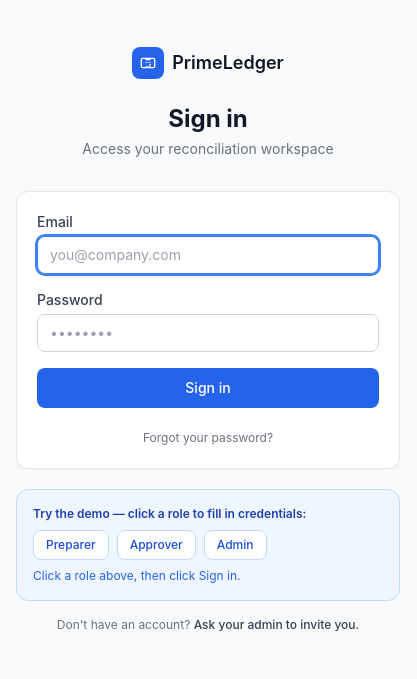
LoginPage › shows error on wrong credentials
Expected: the heading "Sign in" is shown, [168,104,248,133]
Type "wrong@test.com" into the field labelled "Email". click: (208, 255)
box: [37,236,379,274]
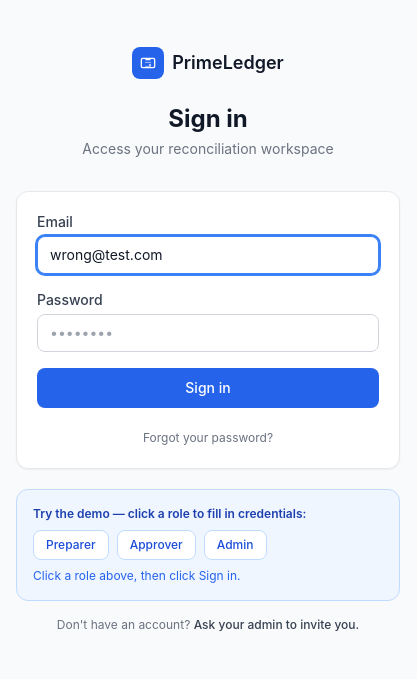
Type "wrongpass" into the password field labelled "Password". click: (208, 333)
box: [37,314,379,352]
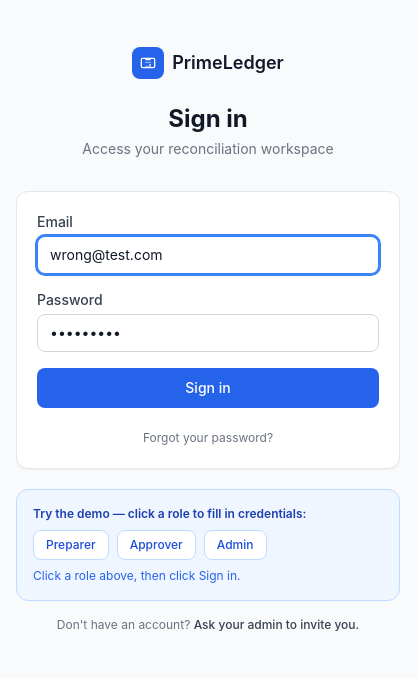
Submit the form from the button "Sign in", box [37,368,379,408]
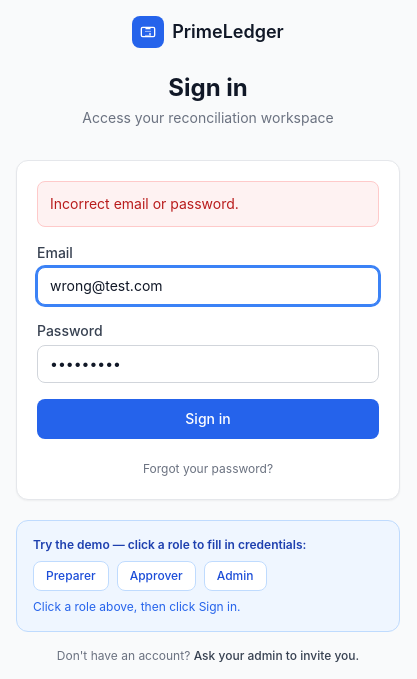
Result: the text "Incorrect email or password." is shown at [37,181,379,227]
